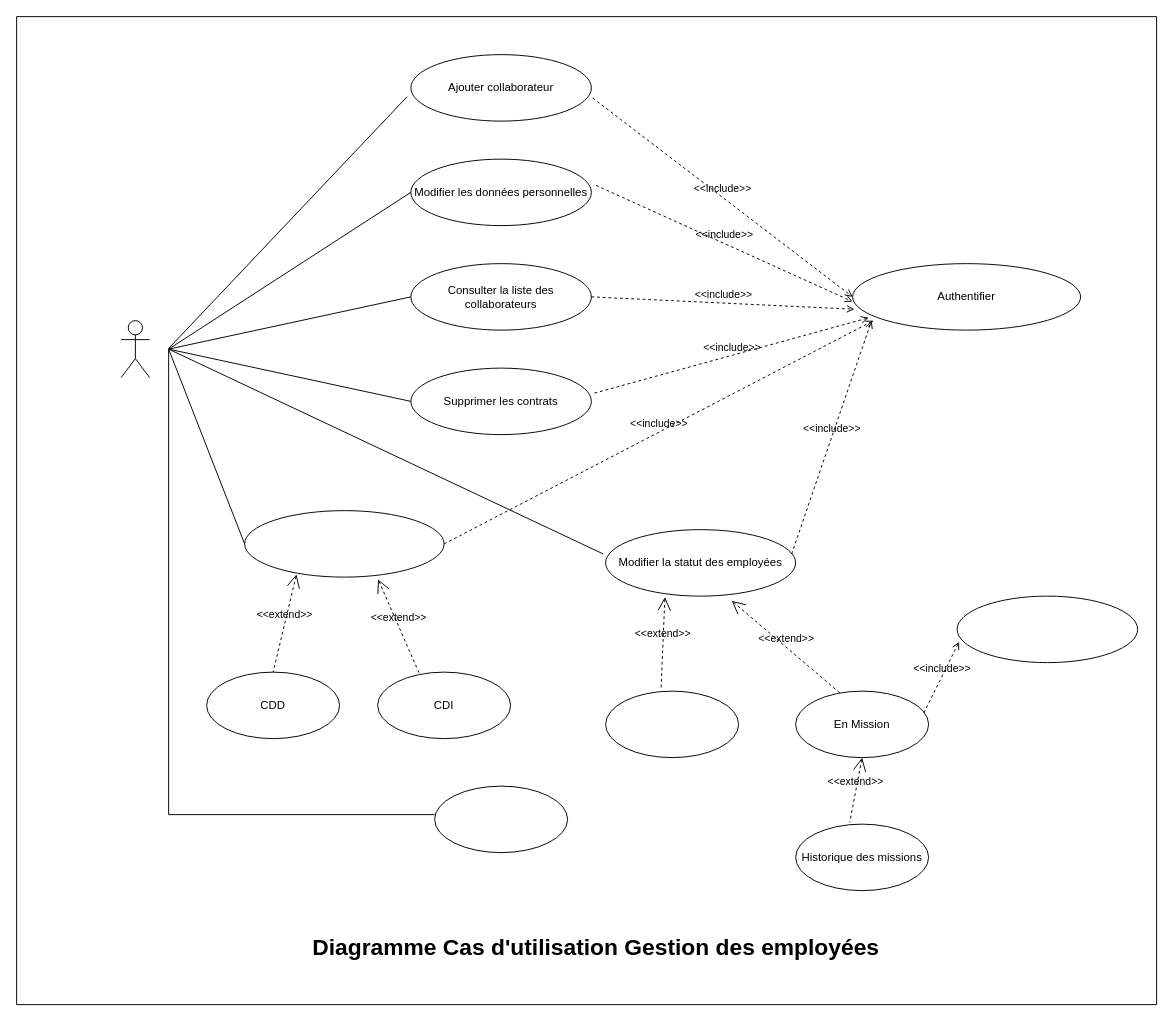
The diagram is 1174 pixels wide and 1022 high, and some of its shapes have lost their labels. Here are the shapes that lost their labels. From the top down, the centre of each, then its label:
At point (135, 349): "Utulisateur".
At point (344, 543): "Gérer les contrats".
At point (1047, 629): "Affectation d'un collaborateur a une mission".
At point (672, 724): "Intercontrat".
At point (501, 819): "Ajouter un client".
